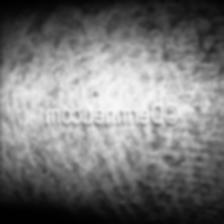Non-Cancerous Skin Condition: (0, 0, 222, 93), (0, 136, 224, 216)
